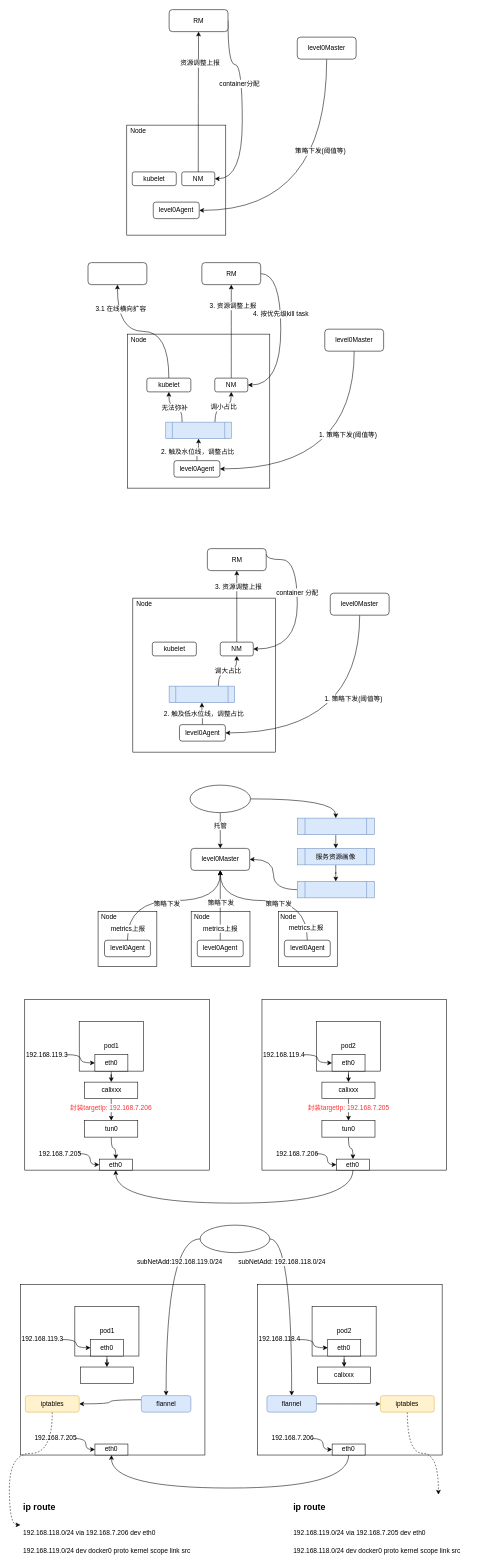
Some shapes in this 498 by 1565 pixel diagram are drawn without their labels. Here are the shapes that lost their labels. From the top down, the centre of each, then its label:
point (117, 273): ReplicaSet
point (198, 430): 计算离线出让量
point (202, 694): 计算离线接入量
point (220, 799): serviceA
point (335, 826): 刻画服务压力水位线
point (335, 889): 资源配比策略
point (235, 1239): etcd
point (106, 1375): docker0
